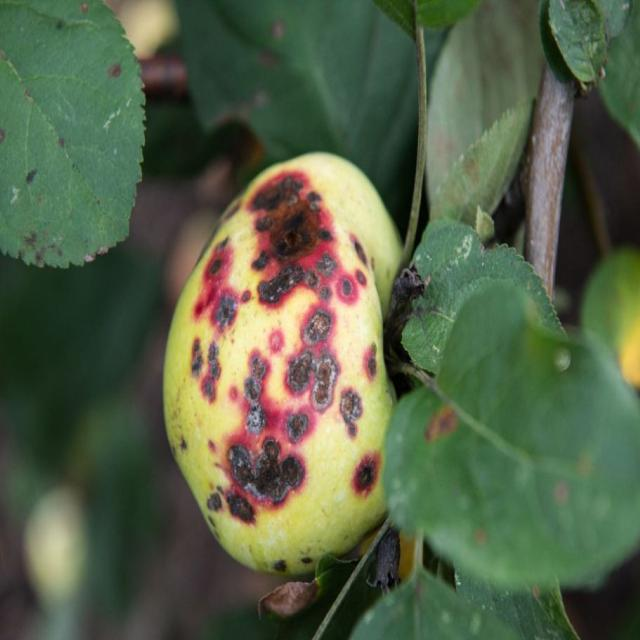Rotten Apple: (154, 136, 418, 582)
